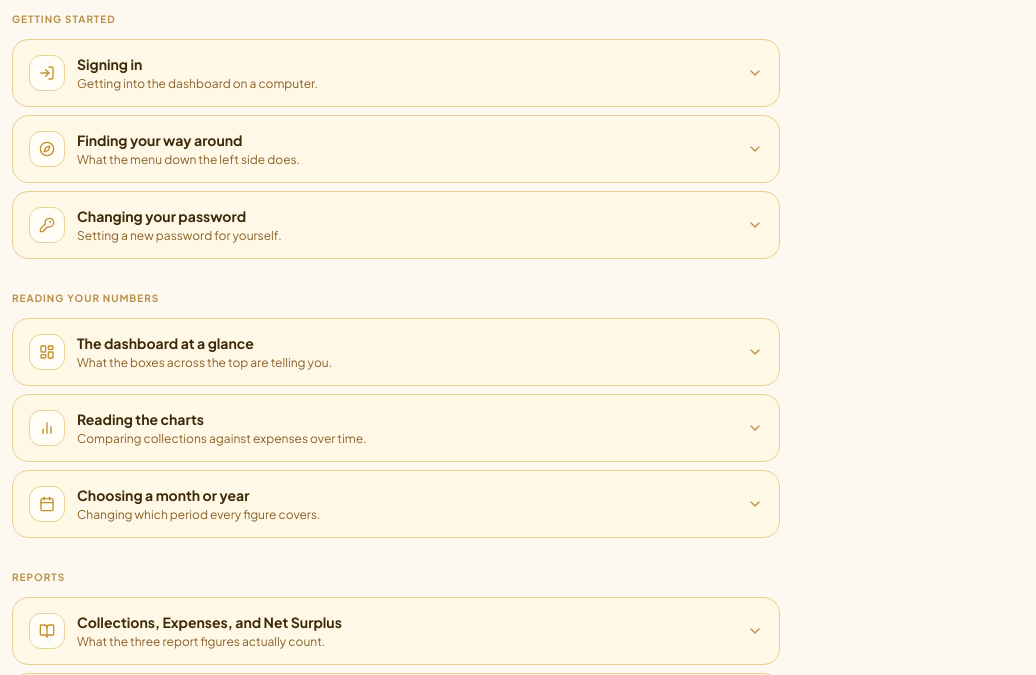
it: closes a topic when its header is clicked again
The image size is (1036, 675).
Click the button "Signing in Getting into the dashboard on a computer.": (47, 73) [13, 40, 779, 106]
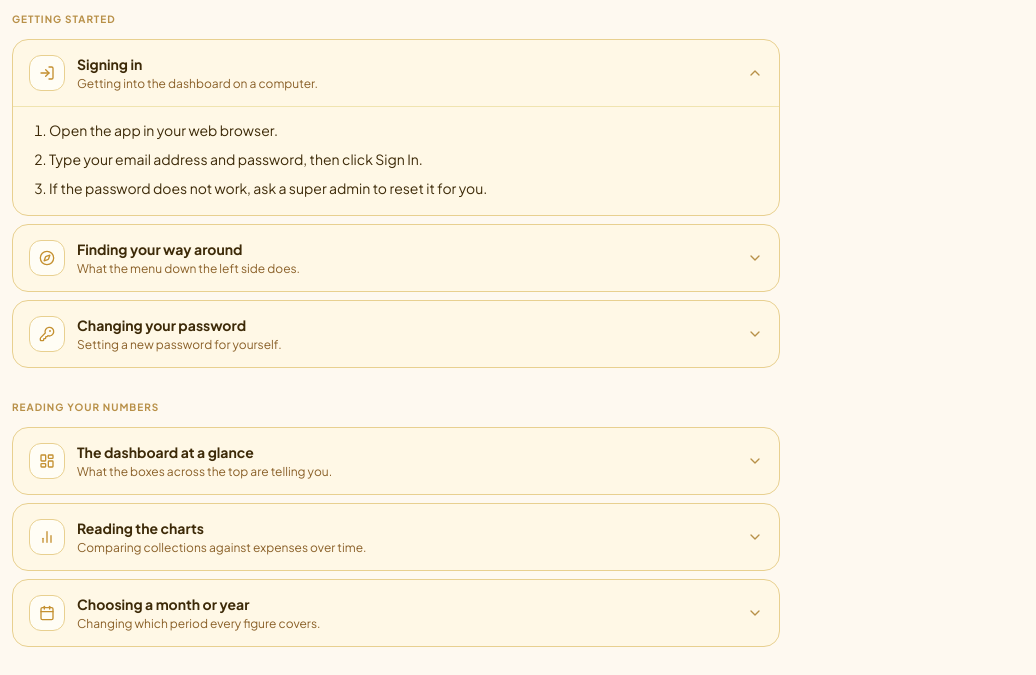
Click the button "Signing in Getting into the dashboard on a computer.": (47, 73) [13, 40, 779, 106]
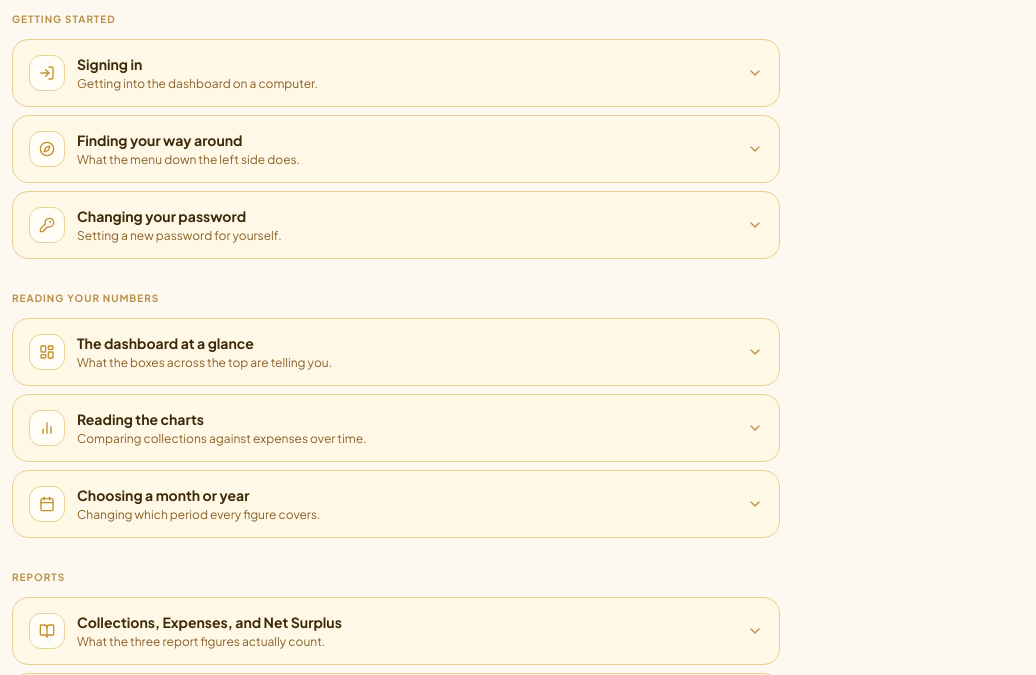
Expected: the button "Signing in Getting into the dashboard on a computer." is collapsed, [13, 40, 779, 106]
Expected: the list item "Open the app in your web browser" is gone
